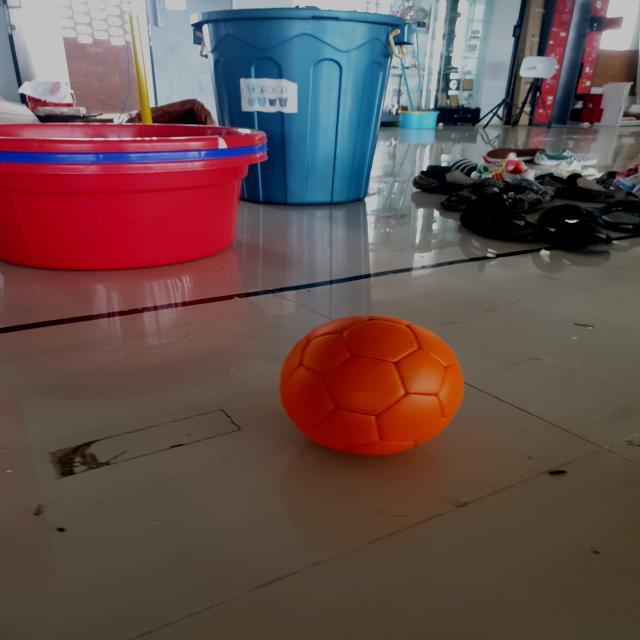bola: (270, 304, 476, 466)
